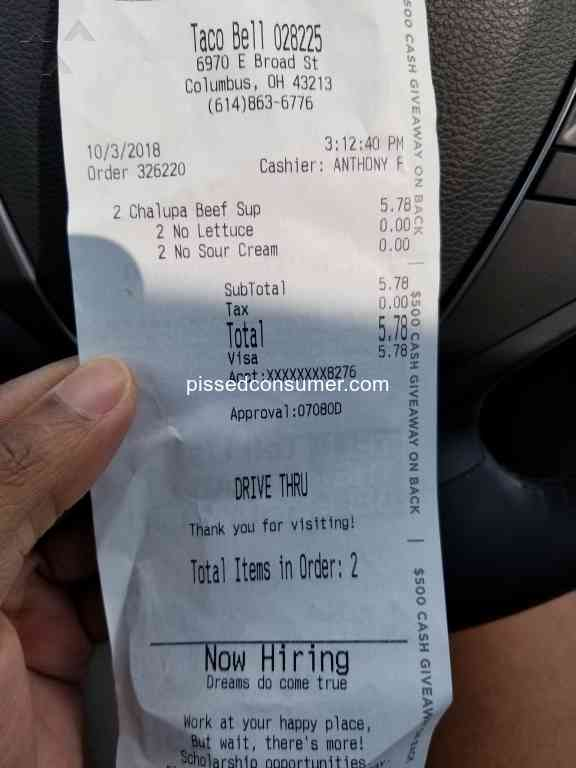Taco Bell: (181, 11, 270, 52)
